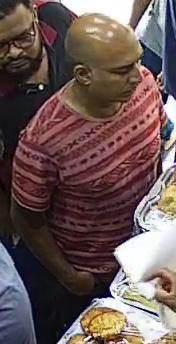no_apron: (29, 37, 161, 272)
